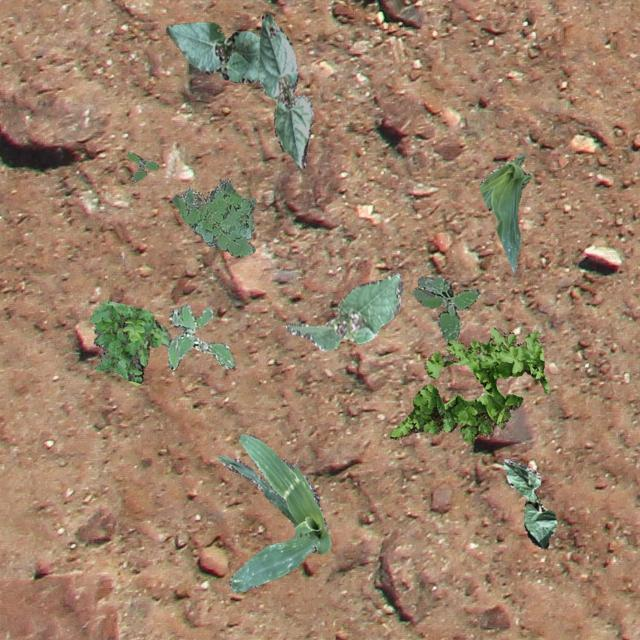crop: (218, 432, 330, 592), (284, 272, 402, 350), (256, 12, 312, 168), (478, 152, 530, 272), (164, 20, 260, 81), (502, 458, 556, 548)
weed: (388, 326, 548, 442), (88, 300, 170, 384), (172, 178, 256, 256), (410, 276, 480, 342), (166, 304, 233, 368), (124, 152, 158, 182)
